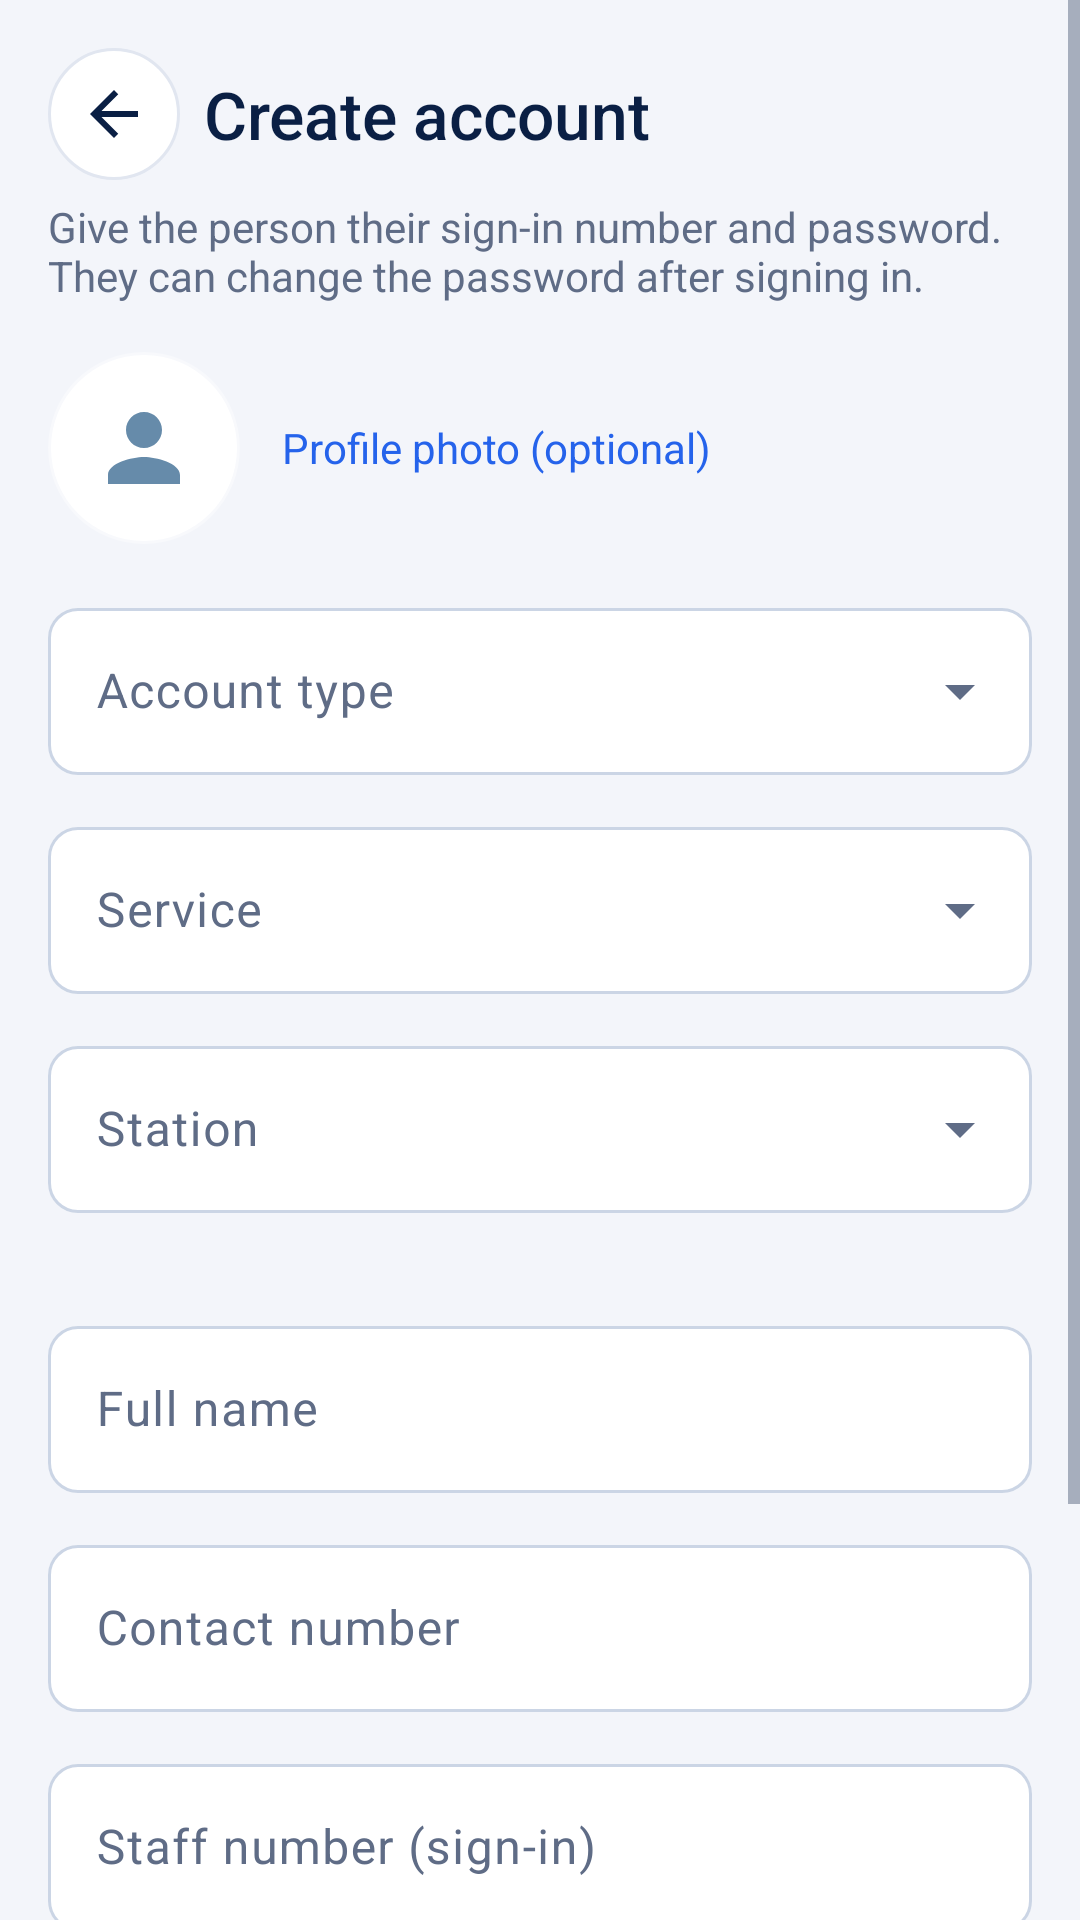

Where to tap for icons on this 1080 x 1920 app screen, as point (x, y):
Back: point (114, 114)
